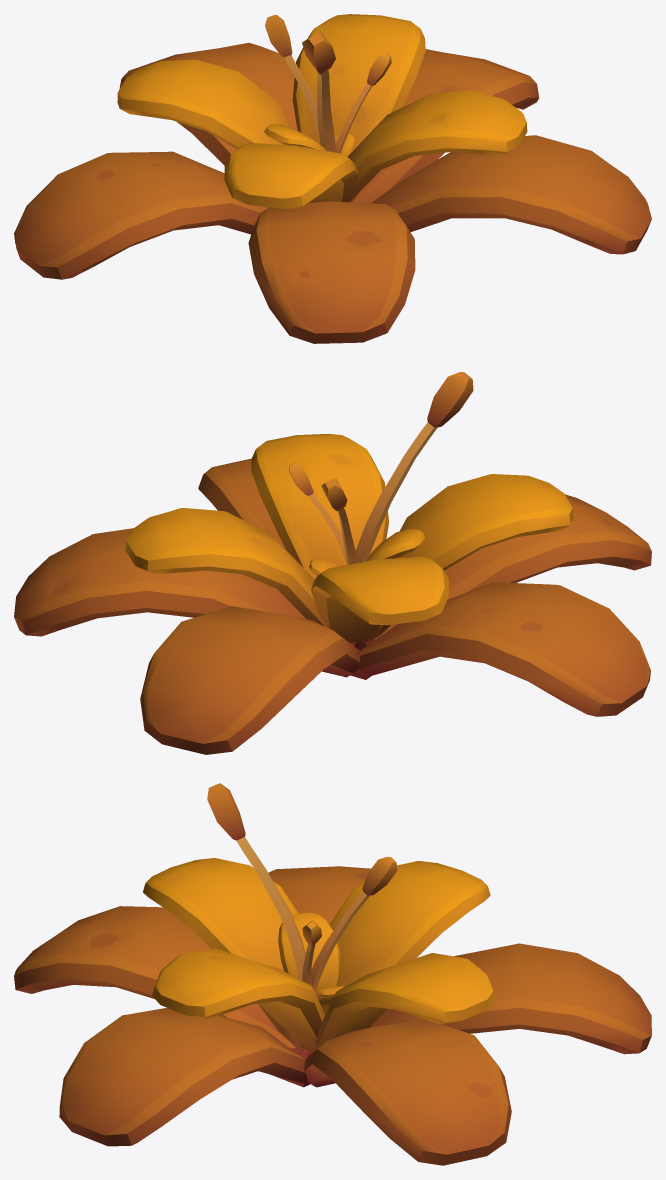
File: garden_plant_3.glb
3 views of the same model, one above another, from view 1: azimuth 30°, elevation 25°; view 2: azimuth 150°, elevation 25°; view 3: azimuth 270°, elevation 25° (orthographic). The views are drawn at different scales.
Visible parts, largest first — view 1: garden_plant_3; view 2: garden_plant_3; view 3: garden_plant_3.
Boxes of the visible parts, bbox=[...] form: garden_plant_3: bbox=[14, 14, 651, 343]; garden_plant_3: bbox=[14, 372, 651, 754]; garden_plant_3: bbox=[14, 783, 651, 1165].
Bounding box in the file's own units: 1.85 × 0.8348 × 1.84.
Materials: 1 (1 with a texture image).
